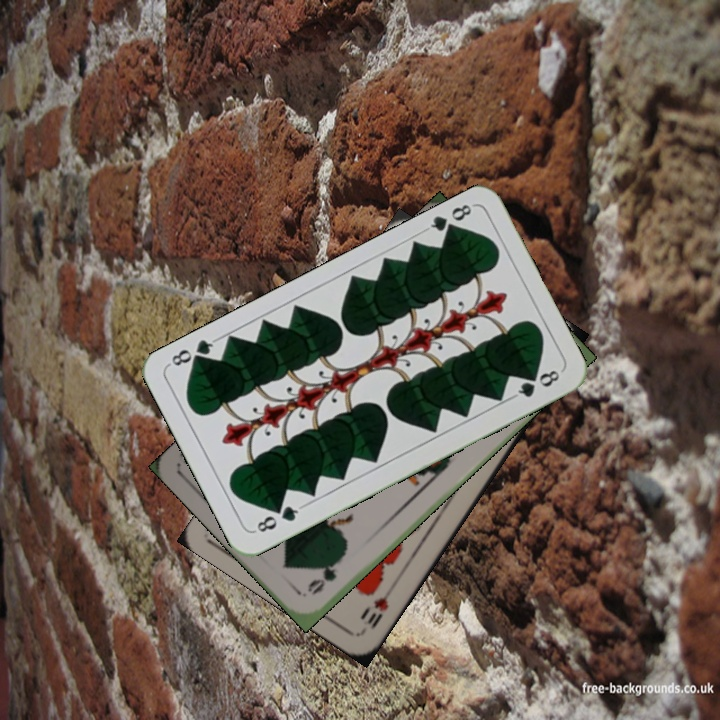G8: (421, 200, 477, 239), (250, 501, 305, 535)
GO: (303, 550, 347, 597)
H10: (363, 582, 397, 632)
